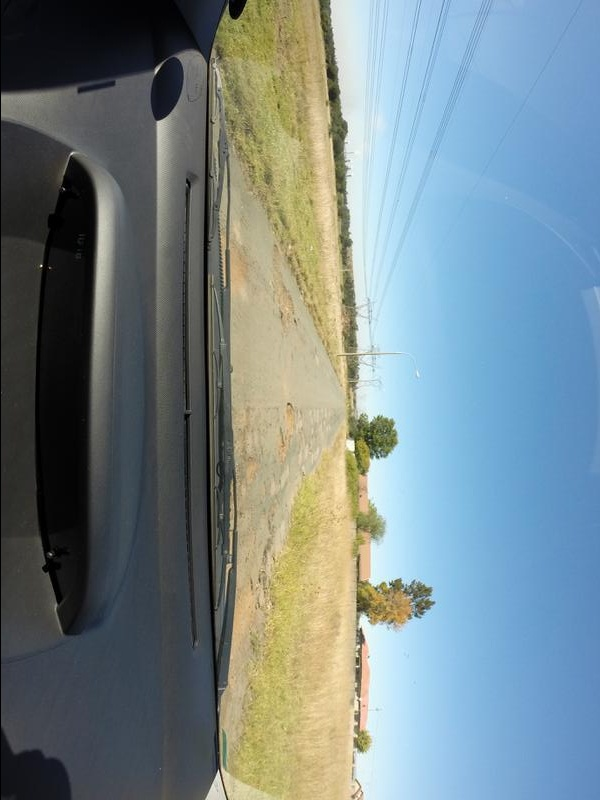pothole: (239, 401, 265, 505), (261, 505, 293, 579), (269, 249, 291, 330), (232, 221, 249, 308), (236, 578, 253, 645), (281, 401, 298, 440), (272, 438, 289, 463), (293, 315, 303, 333)
